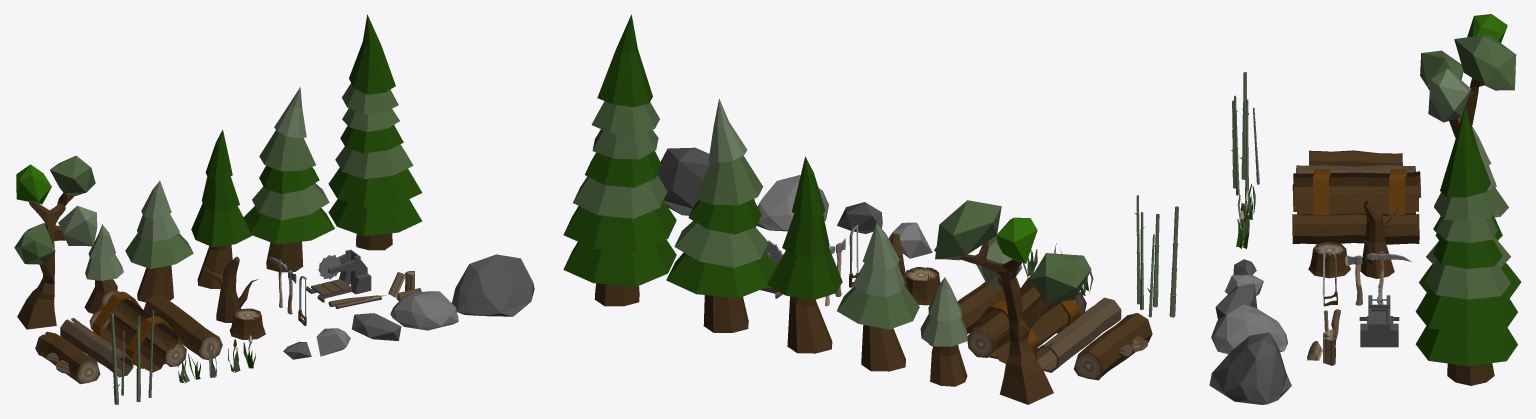
3 renders of one model, left to right at view 1: azimuth 30°, elevation 25°; view 2: azimuth 150°, elevation 25°; view 3: azimuth 270°, elevation 25°, orthographic. The views are drawn at different scales.
Parts seen in each view (by area): view 1: Plane.003_11, Plane.007_3, Plane.006_13, Plane.005_12, Plane_0, Plane.010_15, Icosphere.003_21, Cylinder.002_7, Icosphere.004_22, Plane.008_16, Plane.002_1, Cylinder.005_14 (+5 smaller); view 2: Plane.003_11, Plane.007_3, Plane.006_13, Plane.005_12, Plane_0, Plane.010_15, Plane.002_1, Cylinder.005_14, Cylinder.003_8, Icosphere.003_21, Icosphere.004_22, Cylinder.002_7 (+4 smaller); view 3: Plane.003_11, Plane.006_13, Plane.010_15, Icosphere.003_21, Cylinder.002_7, Icosphere.004_22, Plane.008_16, Plane.004_2, Cylinder.005_14, Cylinder_5, Plane.007_3, Cylinder.003_8 (+12 smaller).
Boxes of the visible parts, left/top/right/bottom form: Plane.003_11: left=328, top=14, right=422, bottom=250; Plane.007_3: left=243, top=87, right=334, bottom=272; Plane.006_13: left=14, top=155, right=97, bottom=329; Plane.005_12: left=191, top=129, right=251, bottom=288; Plane_0: left=125, top=181, right=193, bottom=302; Plane.010_15: left=89, top=289, right=186, bottom=372; Icosphere.003_21: left=452, top=254, right=534, bottom=316; Cylinder.002_7: left=143, top=295, right=222, bottom=360; Icosphere.004_22: left=390, top=291, right=458, bottom=330; Plane.008_16: left=306, top=249, right=371, bottom=302; Plane.002_1: left=84, top=224, right=123, bottom=313; Cylinder.005_14: left=35, top=331, right=100, bottom=384; Plane.003_11: left=563, top=14, right=676, bottom=306; Plane.007_3: left=666, top=98, right=777, bottom=332; Plane.006_13: left=935, top=200, right=1091, bottom=404; Plane.005_12: left=767, top=156, right=842, bottom=353; Plane_0: left=837, top=223, right=919, bottom=371; Plane.010_15: left=967, top=275, right=1086, bottom=363; Plane.002_1: left=920, top=277, right=967, bottom=386; Cylinder.005_14: left=1074, top=313, right=1152, bottom=380; Cylinder.003_8: left=1034, top=297, right=1121, bottom=372; Icosphere.003_21: left=657, top=147, right=754, bottom=215; Icosphere.004_22: left=756, top=175, right=828, bottom=231; Cylinder.002_7: left=928, top=277, right=1020, bottom=346; Plane.003_11: left=1415, top=105, right=1517, bottom=385; Plane.006_13: left=1420, top=14, right=1516, bottom=137; Plane.010_15: left=1292, top=169, right=1421, bottom=215; Icosphere.003_21: left=1209, top=332, right=1291, bottom=404; Cylinder.002_7: left=1292, top=214, right=1419, bottom=244; Icosphere.004_22: left=1211, top=304, right=1287, bottom=354; Plane.008_16: left=1359, top=284, right=1399, bottom=347; Plane.004_2: left=1360, top=200, right=1399, bottom=278; Cylinder.005_14: left=1309, top=150, right=1402, bottom=166; Cylinder_5: left=1308, top=236, right=1350, bottom=278; Plane.007_3: left=1419, top=173, right=1521, bottom=298; Cylinder.003_8: left=1296, top=165, right=1415, bottom=173.
Bounding box in the file's own units: 40.81 × 21.07 × 22.05.
Materials: 1 (1 with a texture image).
